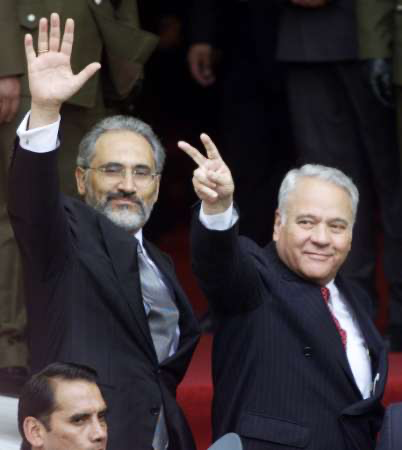Face: (276, 178, 356, 286), (81, 141, 169, 234), (41, 383, 118, 437)
